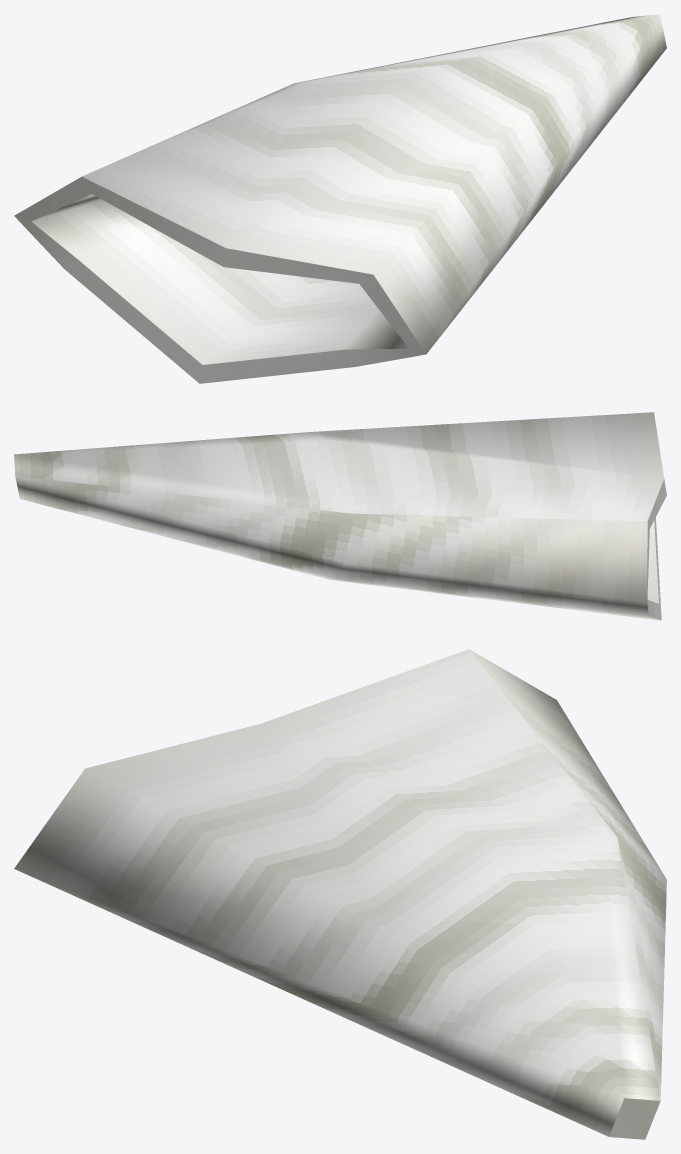
The model's file is ClothFilter.fbx.
The picture shows the model from 3 angles, top to bottom: view 1: azimuth 30°, elevation 25°; view 2: azimuth 150°, elevation 25°; view 3: azimuth 270°, elevation 25°; orthographic projection. The views are drawn at different scales.
Parts seen in each view (by area): view 1: Filter; view 2: Filter; view 3: Filter.
Part boxes in pixels (box(x1,y1,x2,y2)): Filter: box(14, 14, 666, 383); Filter: box(14, 412, 666, 620); Filter: box(14, 649, 666, 1139).
Bounding box in the file's own units: 33.36 × 8.72 × 21.8.
